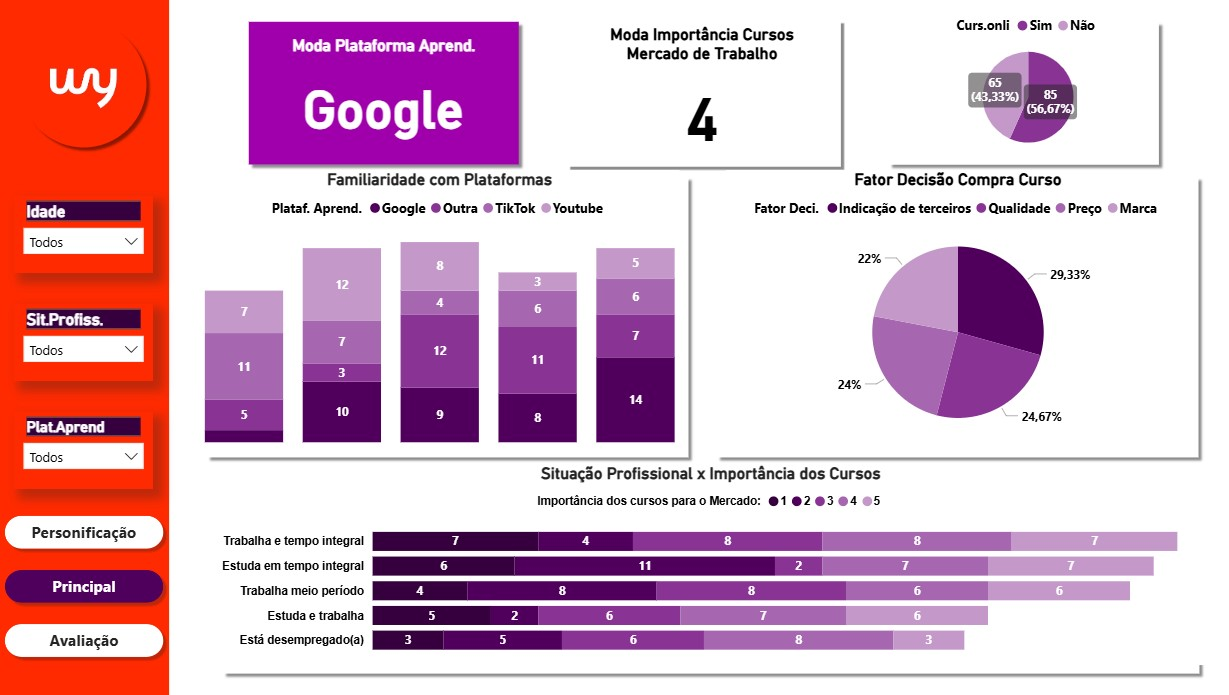

What the dashboard file says about the page in this screenshot:
{"tool":"powerbi","page":{"name":"Principal","canvas":[1280,720],"ordinal":1},"visuals":[{"type":"shape","box":[250.9,15.8,293.3,161.7],"z":0},{"type":"shape","box":[581.9,15.8,293.3,161.7],"z":1000},{"type":"shape","box":[912.9,15.8,293.3,161.7],"z":2000},{"type":"shape","box":[736,176,512,304],"z":2500},{"type":"shape","box":[224,496,1024,208],"z":3000},{"type":"shape","box":[208,176,512,304],"z":4000},{"type":"columnChart","title":"Familiaridade com Plataformas","fields":{"Y":["CountNonNull(Sheet1.Plataforma de aprendizado buscada)"],"Category":["Sheet1.Familiaridade com plataformas online"],"Series":["Sheet1.Plataforma de aprendizado buscada"]},"box":[208,176,496,288],"z":5000},{"type":"card","title":"Moda Plataforma Aprend.","fields":{"Values":["Sheet1.ModaInformacaoPorCanal"]},"box":[267.9,37.5,260,118.3],"z":6000},{"type":"barChart","title":"Situação Profissional x Importância dos Cursos","fields":{"Y":["CountNonNull(Sheet1.Importância dos cursos para o mercado (1-5))"],"Category":["Sheet1.Situação profissional"],"Series":["Sheet1.Importância dos cursos para o mercado (1-5)"]},"box":[224,480,1024,208],"z":7000},{"type":"pieChart","fields":{"Category":["Sheet1.Consome cursos online"],"Y":["CountNonNull(Sheet1.Consome cursos online)"]},"box":[920.6,5.8,288,160],"z":8000},{"type":"card","title":"Moda Importância Cursos Mercado de Trabalho","fields":{"Values":["Sheet1.ModaEscalaCursosOnline"]},"box":[612.9,25.8,230,141.7],"z":9000},{"type":"pieChart","title":"Fator Decisão Compra Curso","fields":{"Category":["Sheet1.Fator de decisão"],"Y":["CountNonNull(Sheet1.Fator de decisão)"]},"box":[752,176,480,288],"z":10000},{"type":"shape","box":[0,0,176,720],"z":11000},{"type":"shape","box":[16,16,144,144],"z":11500,"group":"g1"},{"type":"group","id":"g1","title":"Grupo 1","box":[16,16,144,144],"z":12000},{"type":"image","box":[36.6,36.6,102.9,102.9],"z":12000,"group":"g1"},{"type":"bookmarkNavigator","box":[0,528,176,160],"z":13000},{"type":"slicer","fields":{"Values":["Sheet1.Faixa etária"]},"box":[16,202.7,144,80],"z":13001},{"type":"slicer","fields":{"Values":["Sheet1.Situação profissional"]},"box":[16,314.7,144,80],"z":13002},{"type":"slicer","fields":{"Values":["Sheet1.Plataforma de aprendizado buscada"]},"box":[16,426.7,144,80],"z":13003}]}

Visuals, with their boxes in screenshot pixels (x1, y1, x2, y2), scaled from the page's 1280x720 canvas onto the 1229x695 screenshot:
shape: bbox(241, 15, 523, 171)
shape: bbox(559, 15, 840, 171)
shape: bbox(877, 15, 1158, 171)
shape: bbox(707, 170, 1198, 463)
shape: bbox(215, 479, 1198, 680)
shape: bbox(200, 170, 691, 463)
"Familiaridade com Plataformas" columnChart: bbox(200, 170, 676, 448)
"Moda Plataforma Aprend." card: bbox(257, 36, 507, 150)
"Situação Profissional x Importância dos Cursos" barChart: bbox(215, 463, 1198, 664)
pieChart - Sheet1.Consome cursos online x CountNonNull(Sheet1.Consome cursos online): bbox(884, 6, 1160, 160)
"Moda Importância Cursos Mercado de Trabalho" card: bbox(588, 25, 809, 162)
"Fator Decisão Compra Curso" pieChart: bbox(722, 170, 1183, 448)
shape: bbox(0, 0, 169, 694)
shape: bbox(15, 15, 154, 154)
"Grupo 1" group: bbox(15, 15, 154, 154)
image: bbox(35, 35, 134, 135)
bookmarkNavigator: bbox(0, 510, 169, 664)
slicer - Sheet1.Faixa etária: bbox(15, 196, 154, 273)
slicer - Sheet1.Situação profissional: bbox(15, 304, 154, 381)
slicer - Sheet1.Plataforma de aprendizado buscada: bbox(15, 412, 154, 489)
